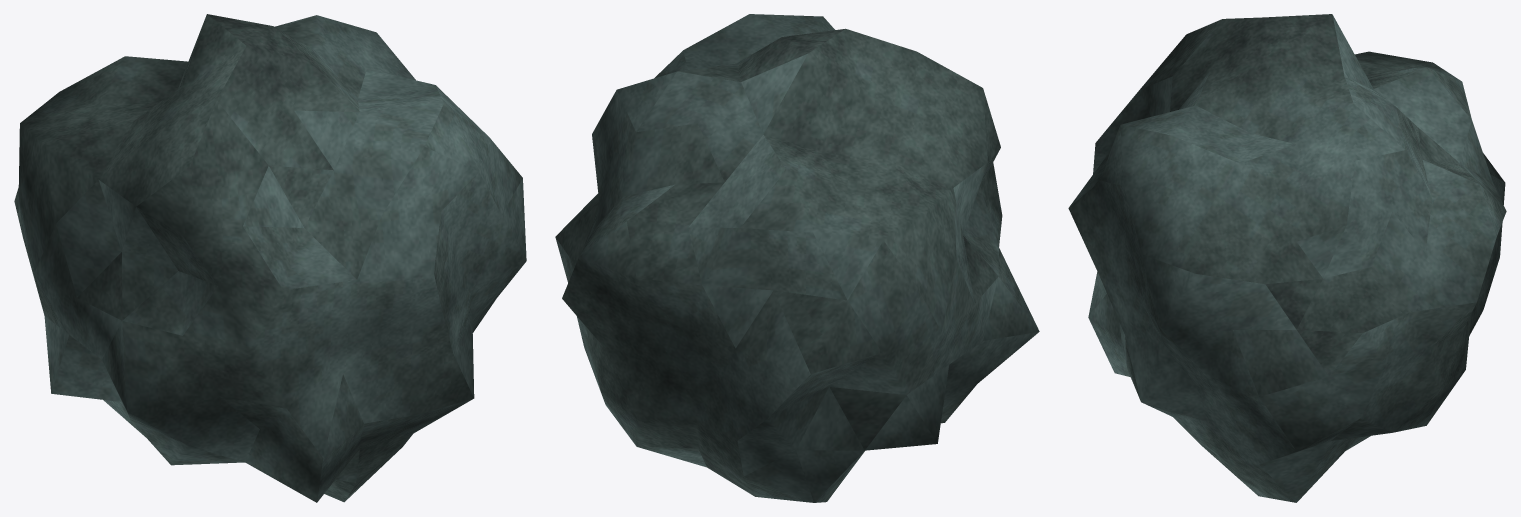
Rendered from rock_2.glb.
3 renders of one model, left to right at view 1: azimuth 30°, elevation 25°; view 2: azimuth 150°, elevation 25°; view 3: azimuth 270°, elevation 25°, orthographic. The views are drawn at different scales.
Visible parts, largest first — view 1: rock_2_Rock; view 2: rock_2_Rock; view 3: rock_2_Rock.
Boxes of the visible parts, box(x1,y1,x2,y2) form: rock_2_Rock: box(14, 14, 526, 502); rock_2_Rock: box(555, 14, 1039, 502); rock_2_Rock: box(1068, 14, 1506, 502).
Bounding box in the file's own units: 2.04 × 2.28 × 2.06.
1 material, 1 textured.
